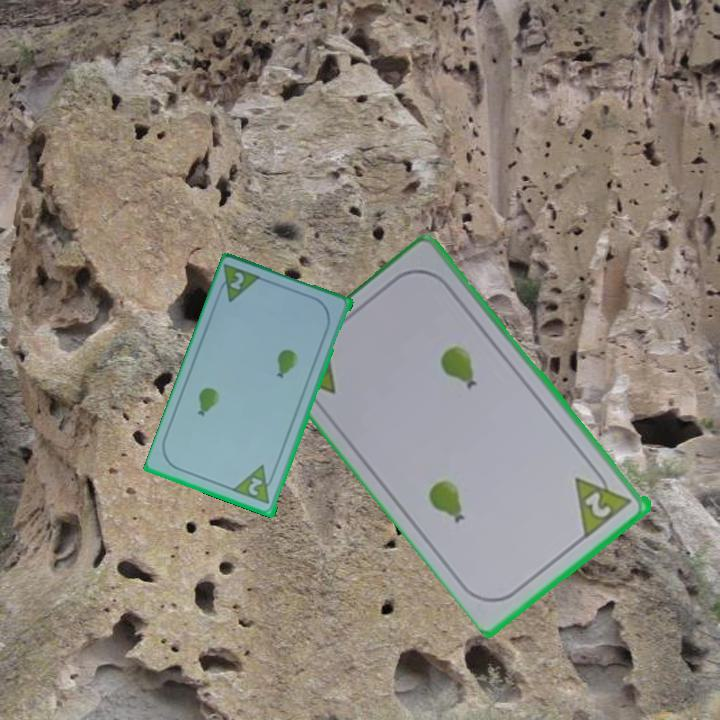2p: (213, 261, 266, 306), (581, 488, 615, 521), (245, 474, 266, 499)
